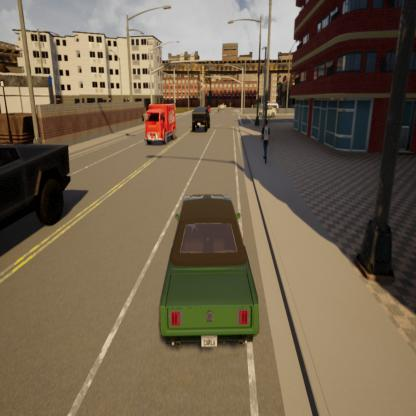Cars: (154, 189, 265, 361), (0, 135, 77, 260), (144, 98, 178, 150), (190, 105, 212, 135), (260, 101, 282, 116), (258, 108, 278, 120), (218, 99, 228, 111)
Pedestrian: (258, 116, 273, 171)
